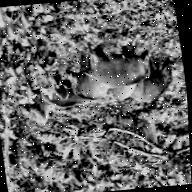boar: (76, 39, 159, 93), (122, 57, 188, 115), (38, 84, 95, 120), (71, 77, 109, 104), (110, 80, 138, 107), (30, 100, 50, 128)
